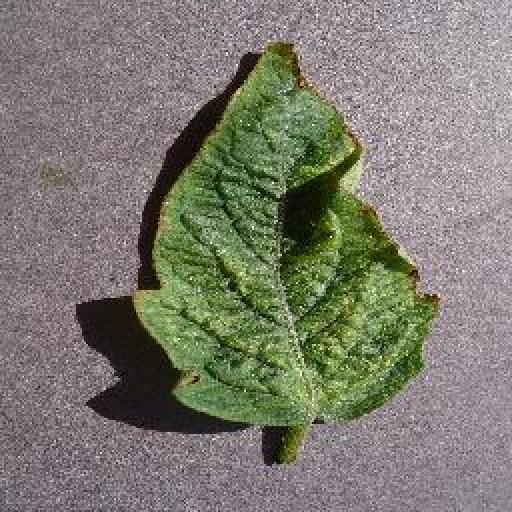Spider Mites: (136, 33, 443, 423)
